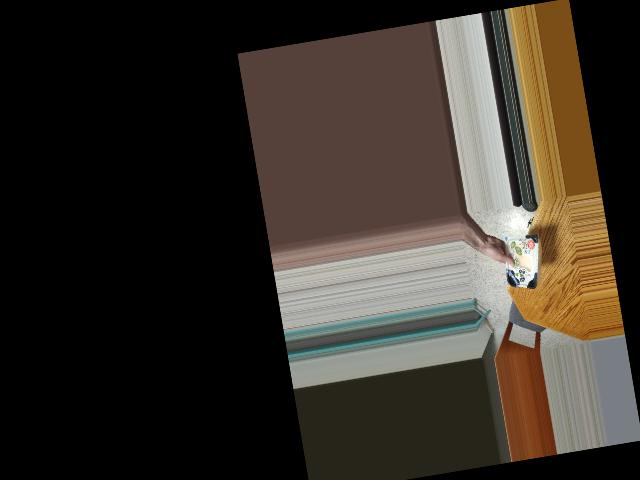cheese: (496, 241, 545, 287)
